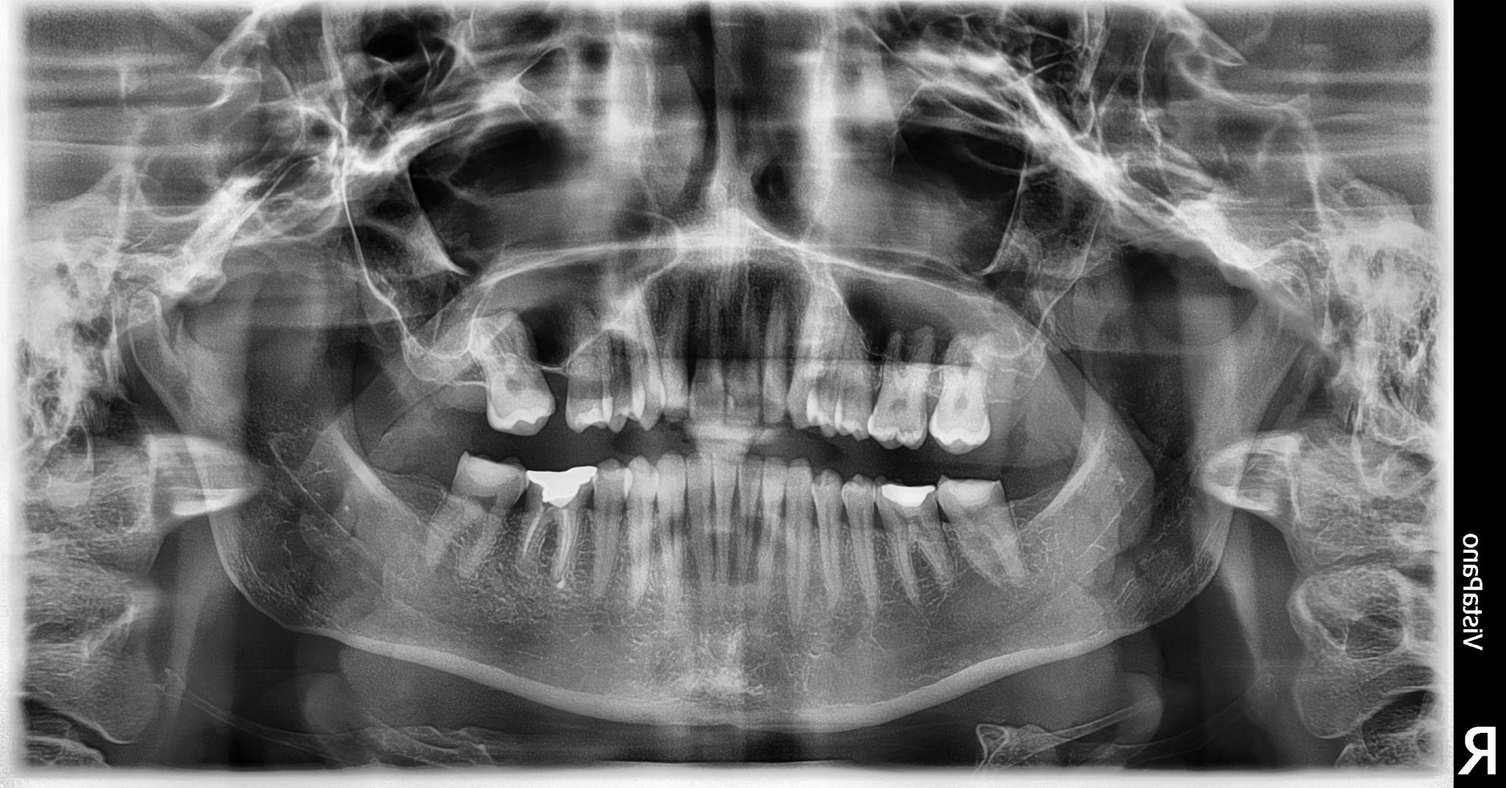Premolars: (526, 270, 1506, 744), (467, 201, 1413, 532), (284, 225, 804, 696)
